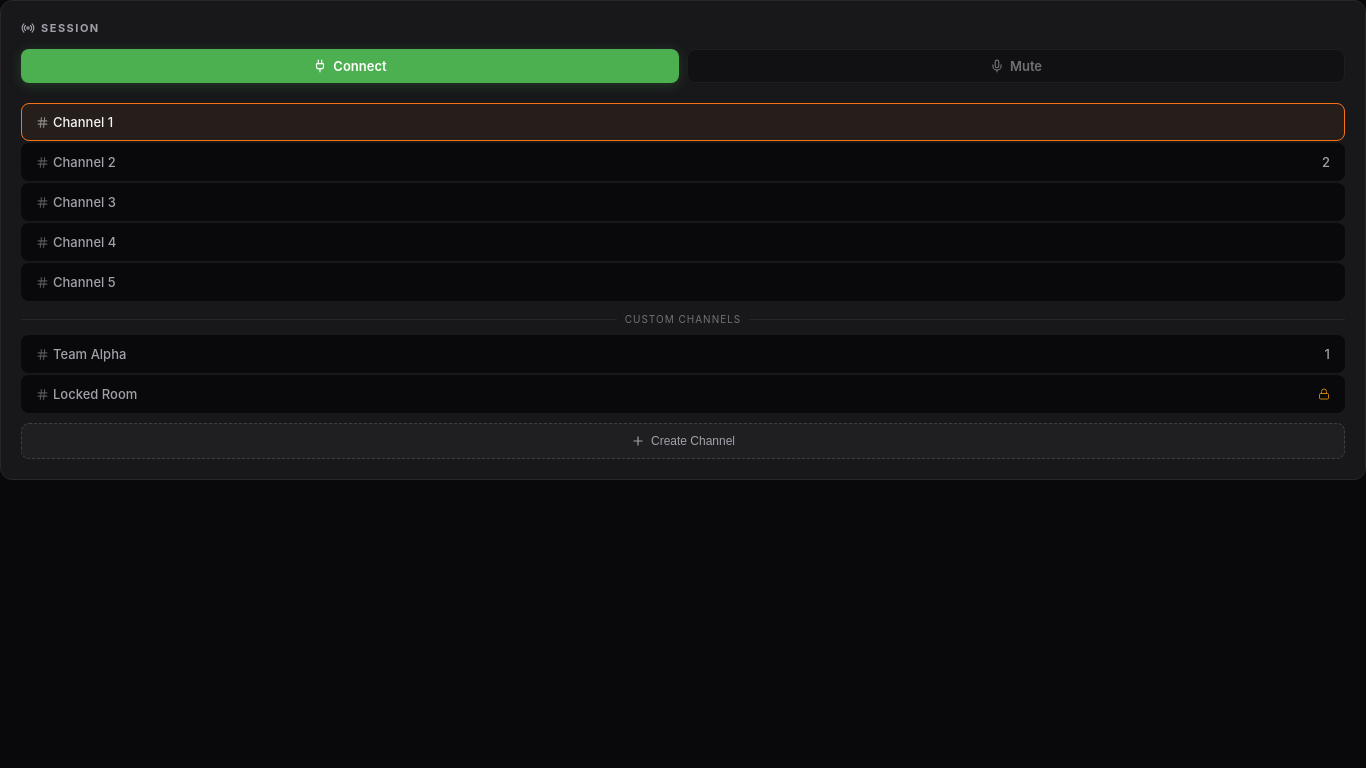
Test: SessionControls › Custom Channel Selection › clicking a PIN-protected channel shows PIN dialog
Click the button "Locked Room": (95, 394) [21, 375, 1345, 413]
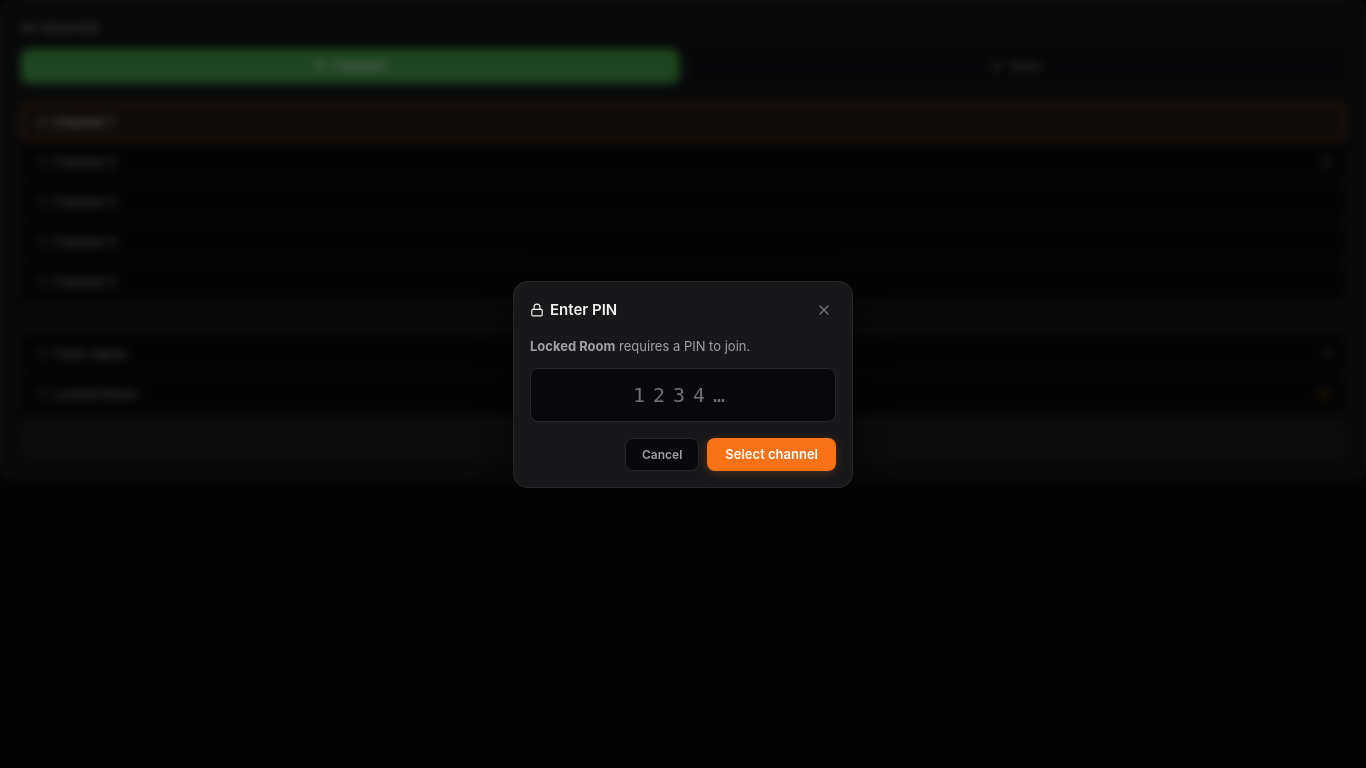
Expected: the heading "Enter PIN" is shown, [530, 300, 617, 319]
